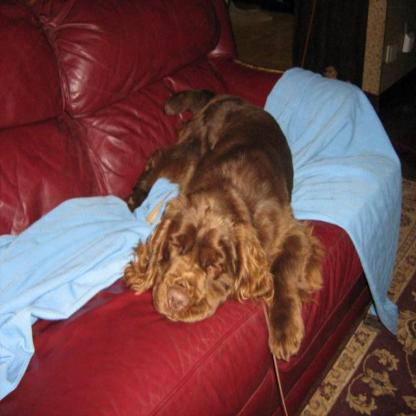Sussex_spaniel: (126, 87, 319, 360)
